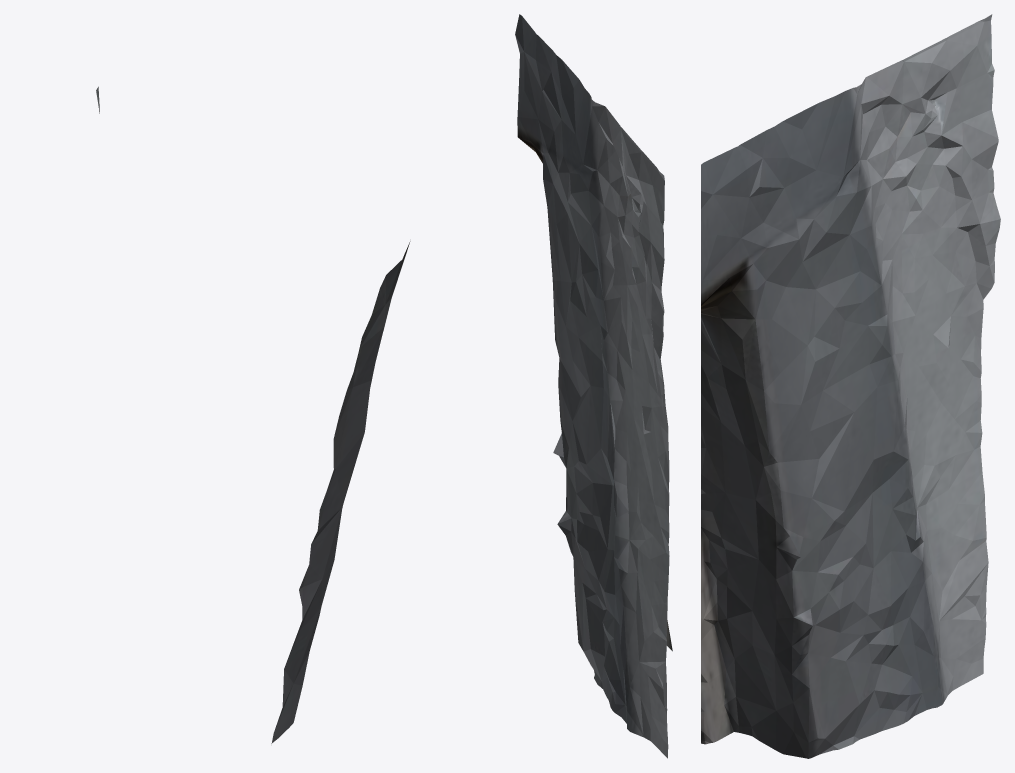
3 renders of one model, left to right at view 1: azimuth 30°, elevation 25°; view 2: azimuth 150°, elevation 25°; view 3: azimuth 270°, elevation 25°, orthographic. The views are drawn at different scales.
Size of the model in its own units: 0.4165 by 0.8374 by 0.3449.
2 materials, 2 textured.
